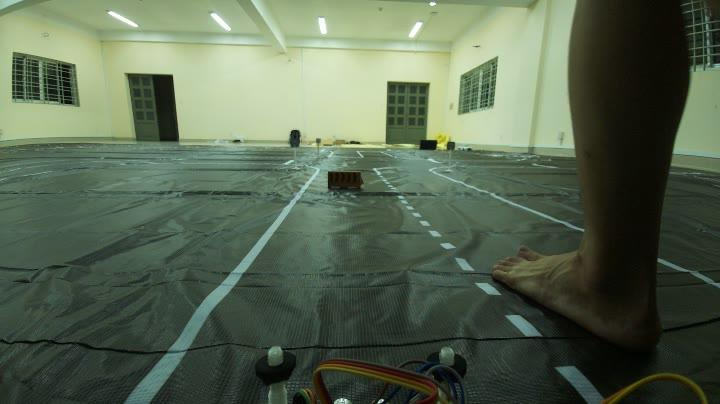roadblock: (326, 164, 364, 195)
